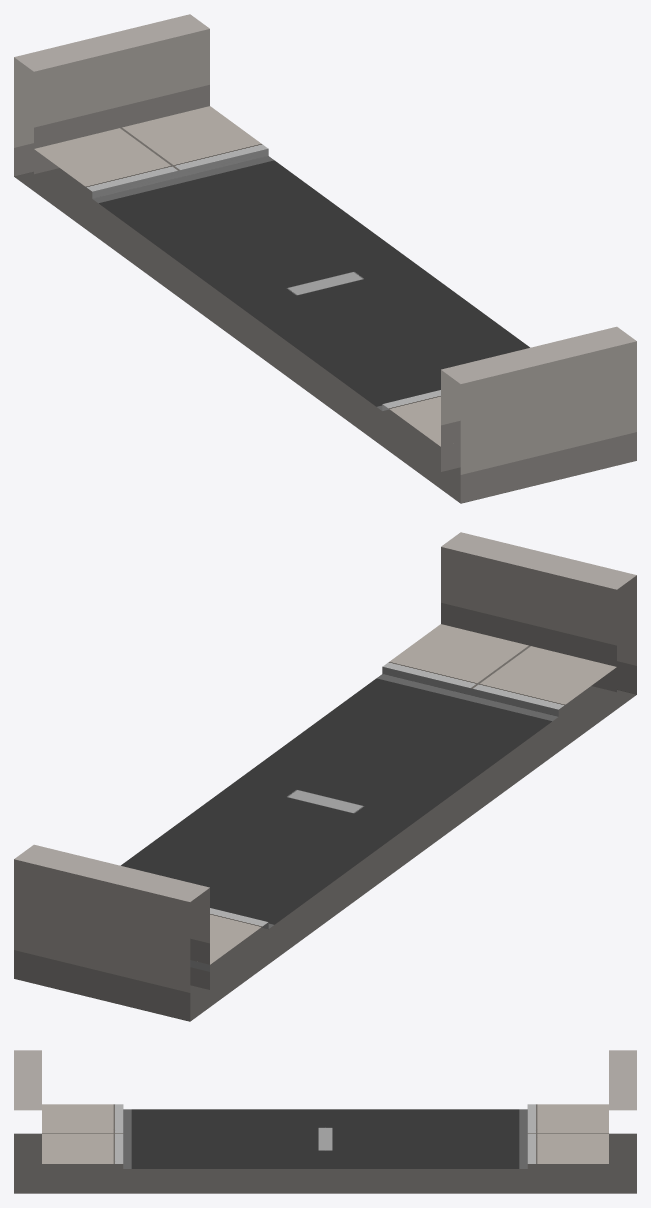
File: Env_Road_Ramp.fbx
3 views of the same model, one above another, from view 1: azimuth 30°, elevation 25°; view 2: azimuth 150°, elevation 25°; view 3: azimuth 270°, elevation 25° (orthographic). The views are drawn at different scales.
Visible parts, largest first — view 1: Env_Road_Ramp; view 2: Env_Road_Ramp; view 3: Env_Road_Ramp.
Part boxes in pixels (box(x1,y1,x2,y2)): Env_Road_Ramp: box(14, 14, 636, 503); Env_Road_Ramp: box(14, 532, 636, 1021); Env_Road_Ramp: box(14, 1050, 636, 1193).
Size of the model in its own units: 5 by 3.24 by 21.96.
1 material, 1 textured.
